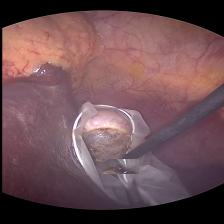Grasper: (101, 159, 138, 174)
Specimen Bag: (70, 99, 190, 207)
